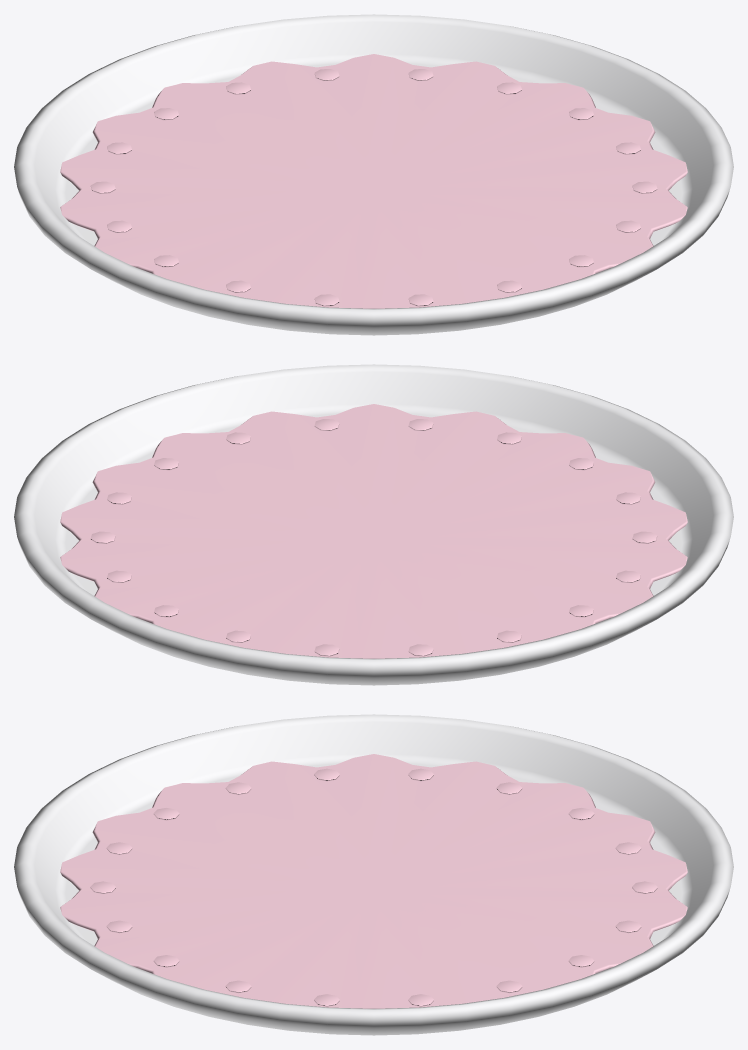
The model's file is CakePlate.obj.
3 views of the same model, one above another, from view 1: azimuth 30°, elevation 25°; view 2: azimuth 150°, elevation 25°; view 3: azimuth 270°, elevation 25° (orthographic).
Visible parts, largest first — view 1: Doily, Plate; view 2: Doily, Plate; view 3: Doily, Plate.
Part boxes in pixels (left/top/right/bottom): Doily: left=60, top=54, right=687, bottom=308; Plate: left=14, top=14, right=733, bottom=335; Doily: left=60, top=404, right=687, bottom=658; Plate: left=14, top=364, right=733, bottom=685; Doily: left=60, top=754, right=687, bottom=1008; Plate: left=14, top=714, right=733, bottom=1035.
Size of the model in its own units: 4.2 by 0.37 by 4.2.
